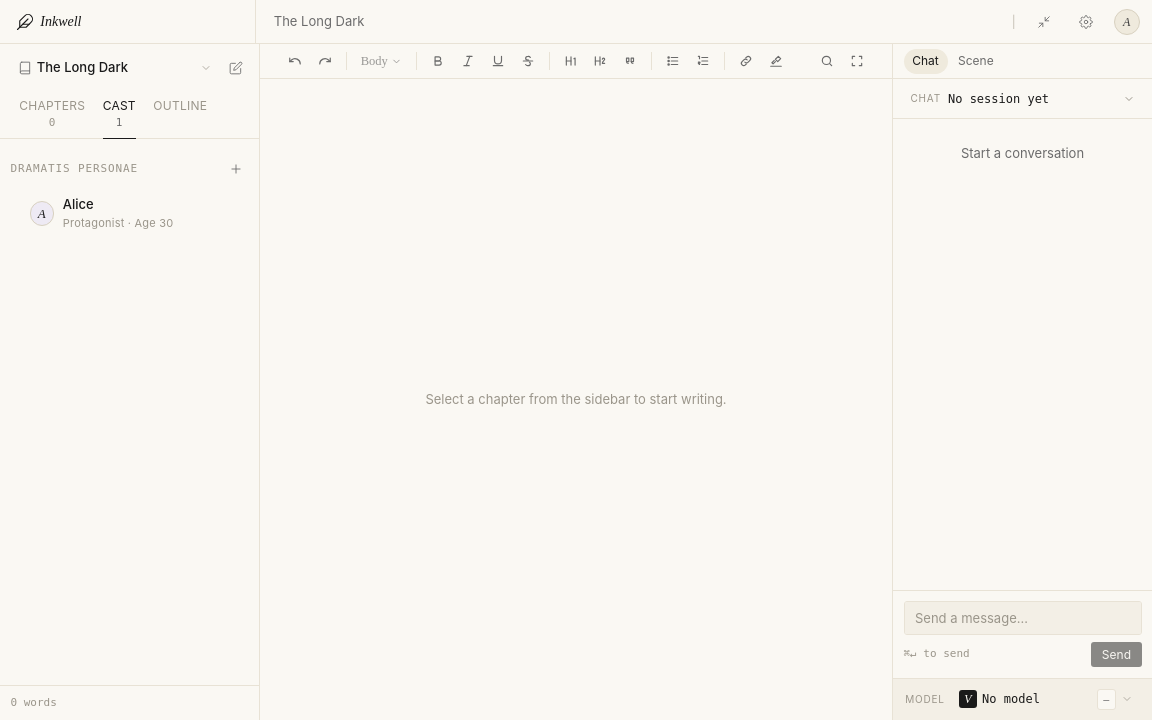
Test: EditorPage character popover (F54) › popover's Edit button closes it and opens the F19 character sheet
The image size is (1152, 720).
Click the text "Alice" at (78, 204), box x1=63 y1=196 x2=94 y2=212
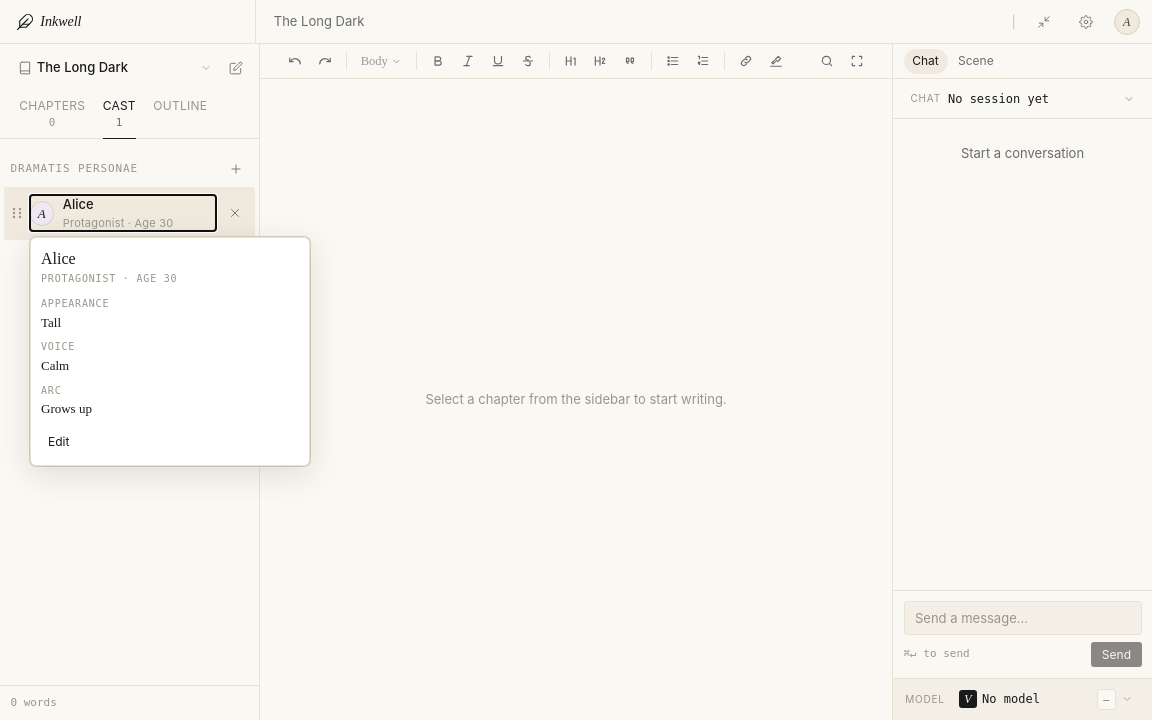
Check: the dialog is shown, box x1=30 y1=237 x2=310 y2=466
# Click the Edit footer button — first button labelled "Edit" inside the popover.
Click the button "Edit" at (59, 442), box x1=41 y1=429 x2=76 y2=454
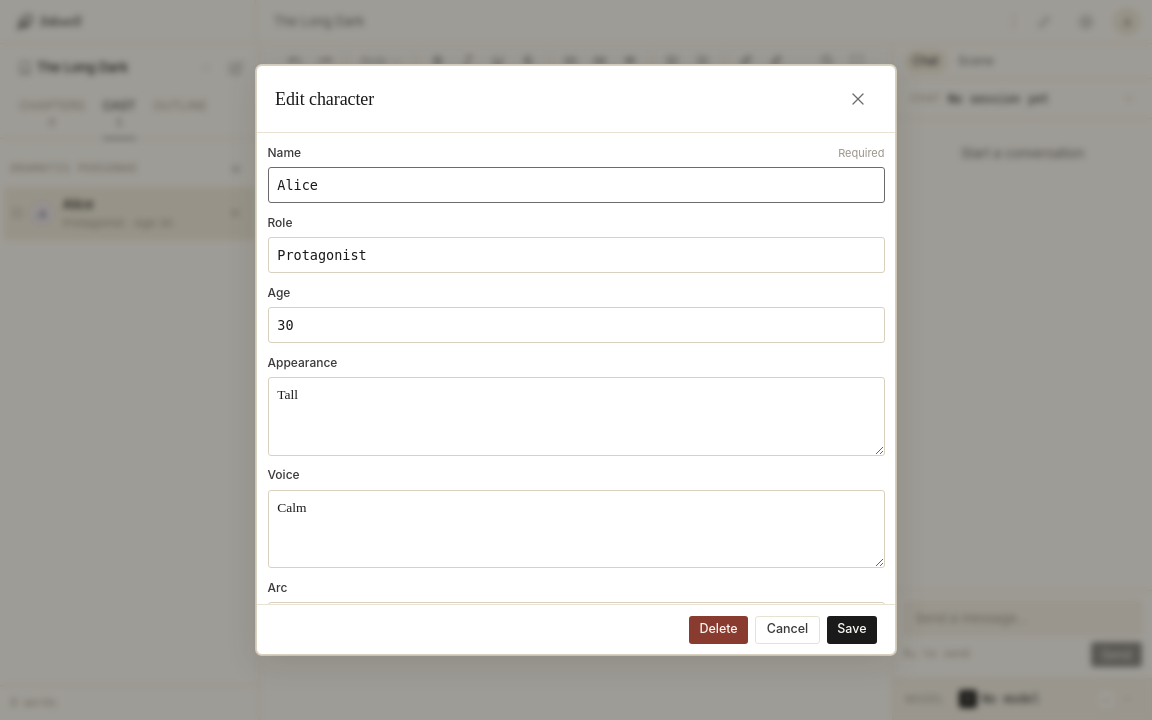
Check: the heading "Edit character" is shown, box x1=275 y1=86 x2=374 y2=112
